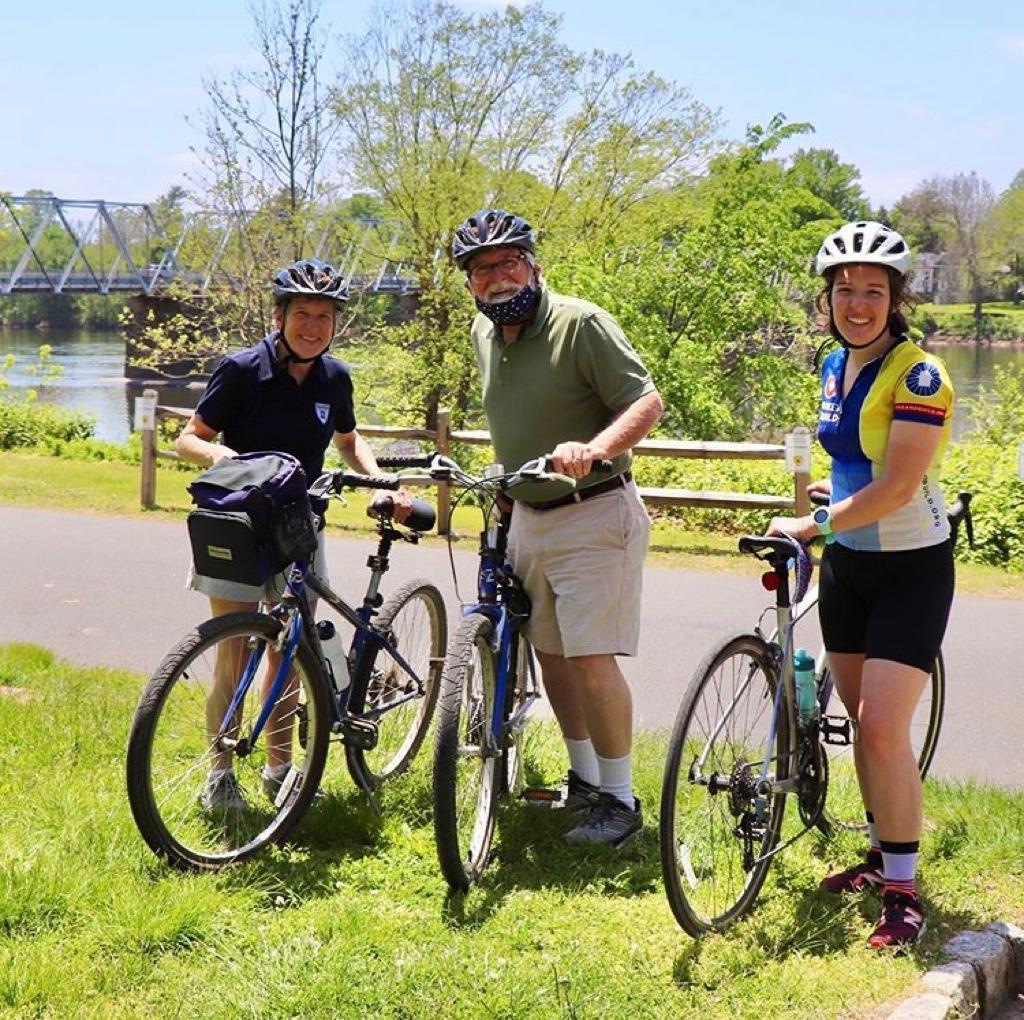mouth: (487, 288, 517, 301), (846, 315, 871, 330), (296, 334, 323, 344)
nose: (848, 302, 867, 314), (489, 275, 507, 284), (304, 326, 321, 333)
